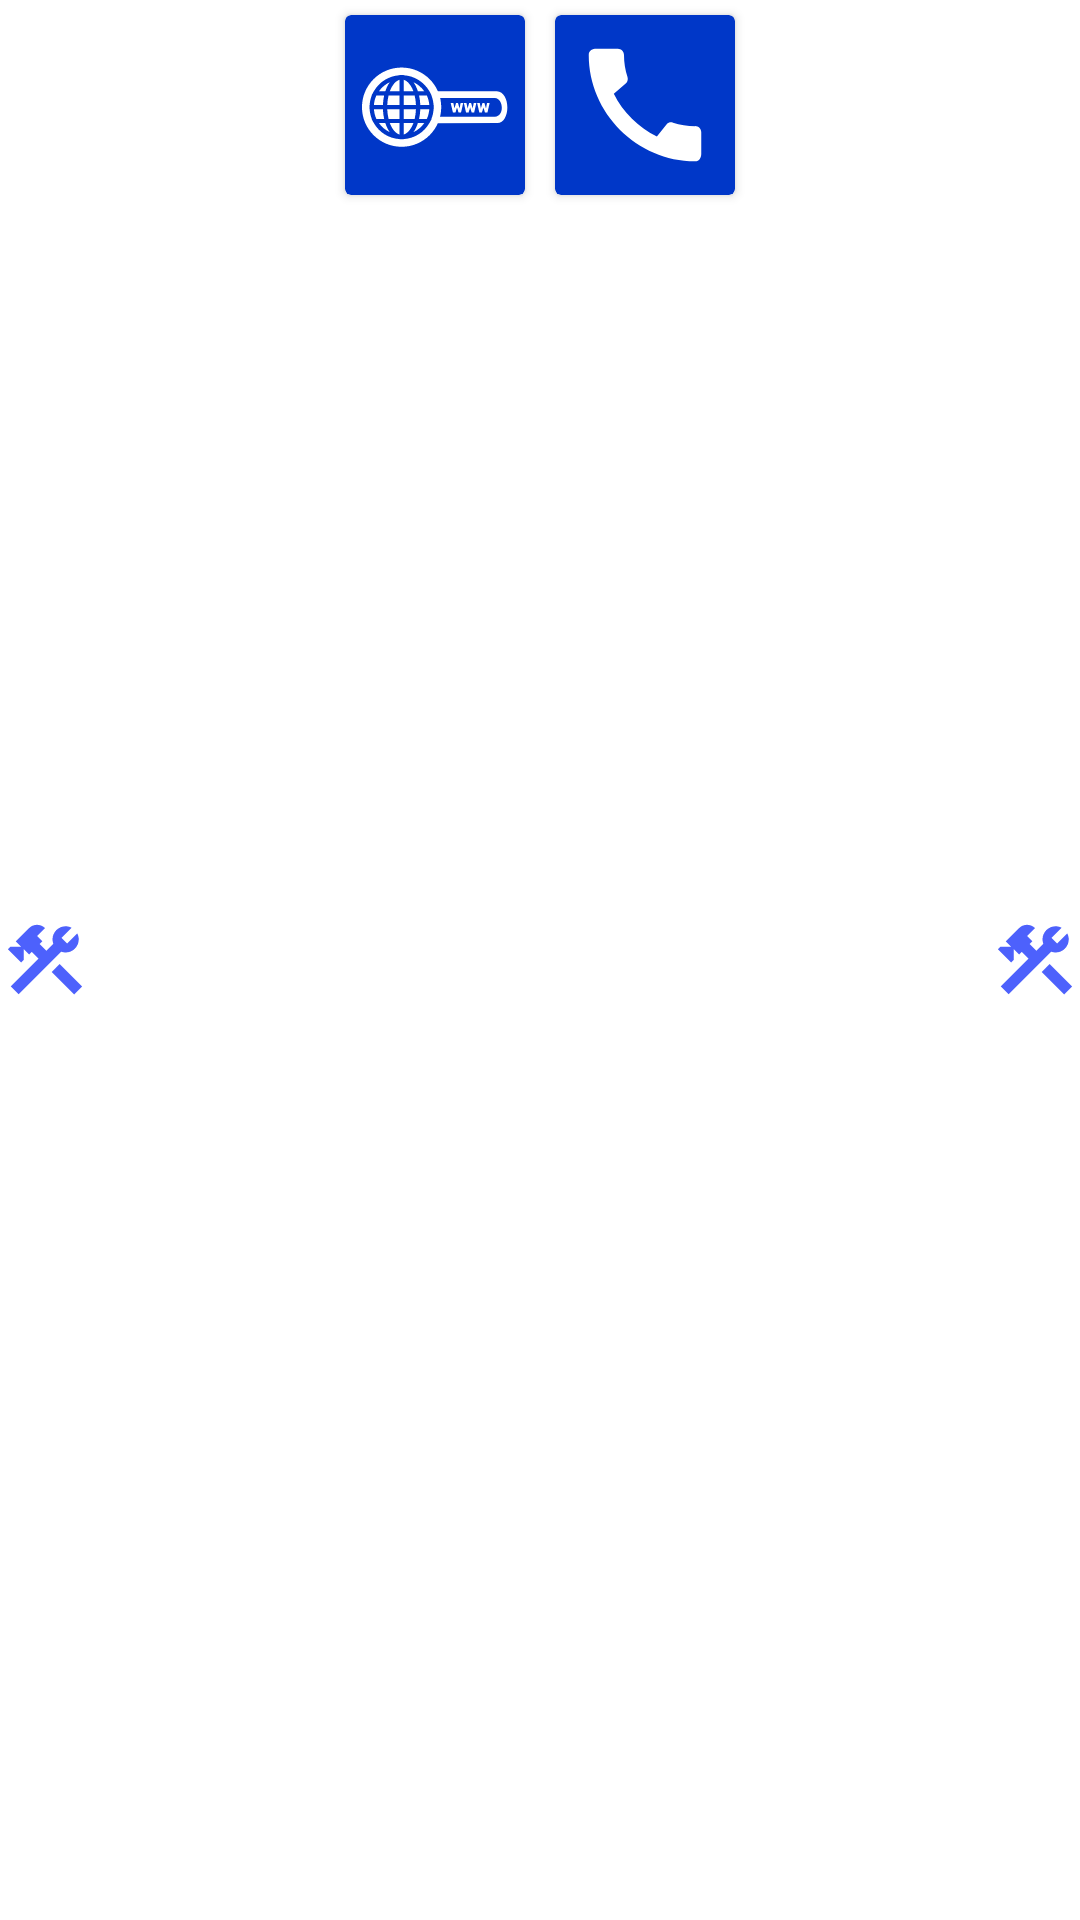

Icons on this 1080px×1920px Android screen, each with the point to tap as (x,y):
call: (645,105)
tools: (45,959), (1035,959)
web tool: (435,107)
